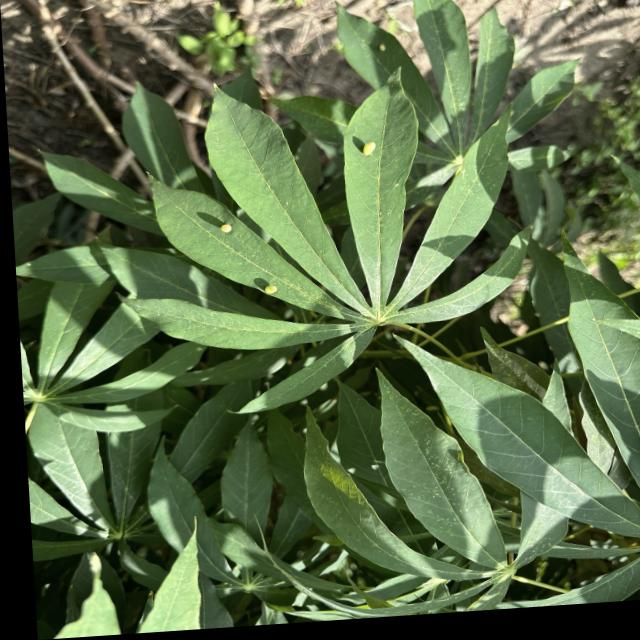Mosca: (356, 130, 383, 157), (258, 280, 285, 297), (375, 33, 393, 57), (214, 218, 237, 234)
